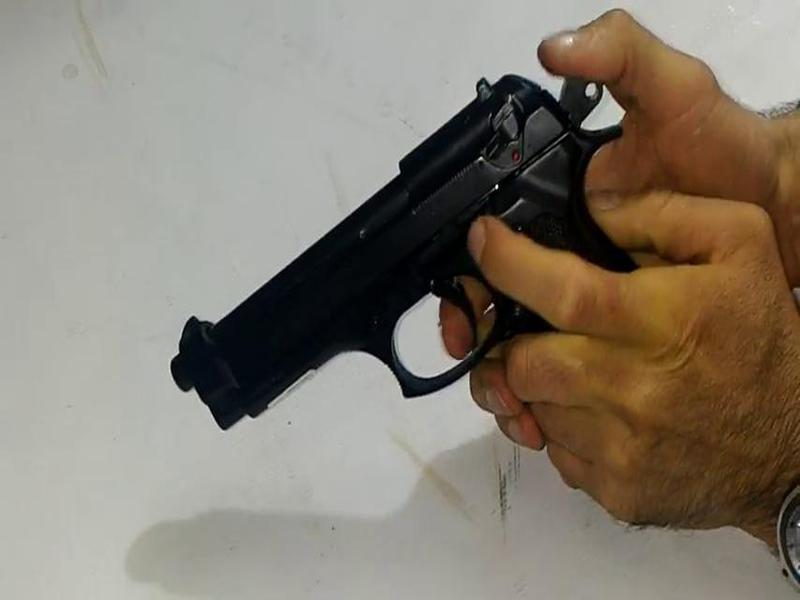Pistola: (148, 54, 665, 438)
